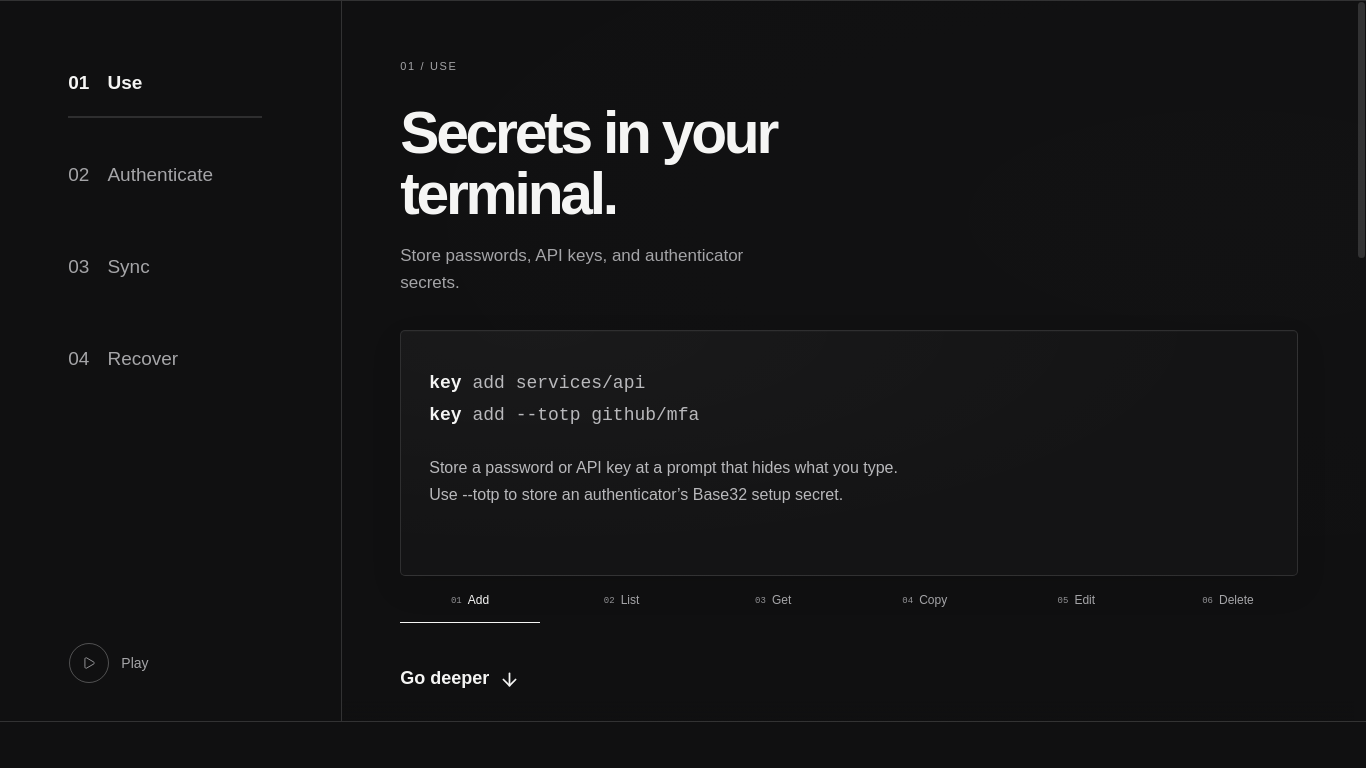
Scenario: chapter interactions › starts paused for reduced motion and allows an explicit Play
The image size is (1366, 768).
Click the button with aria-label "Play chapters" at (109, 663), box [68, 641, 150, 685]
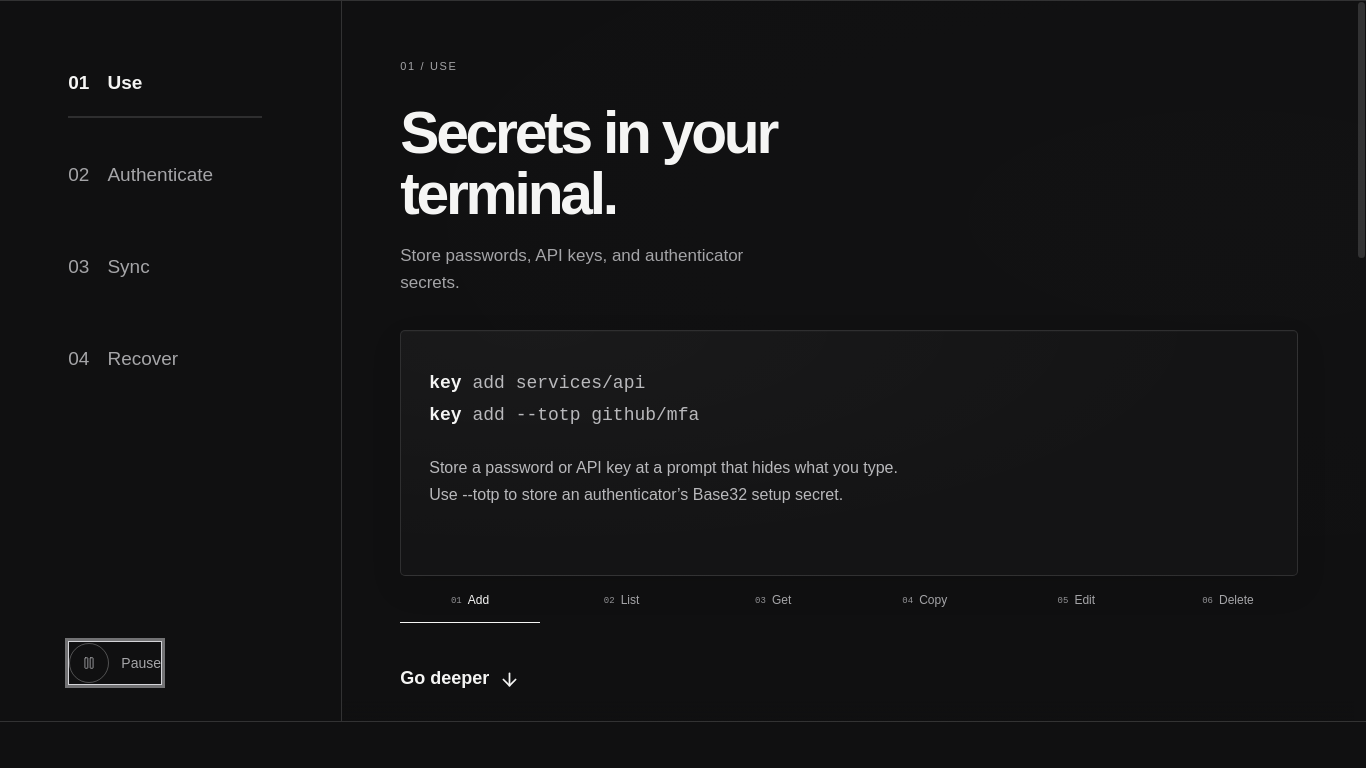
Expected: the button with aria-label "Pause chapters" is shown, [68, 641, 162, 685]
